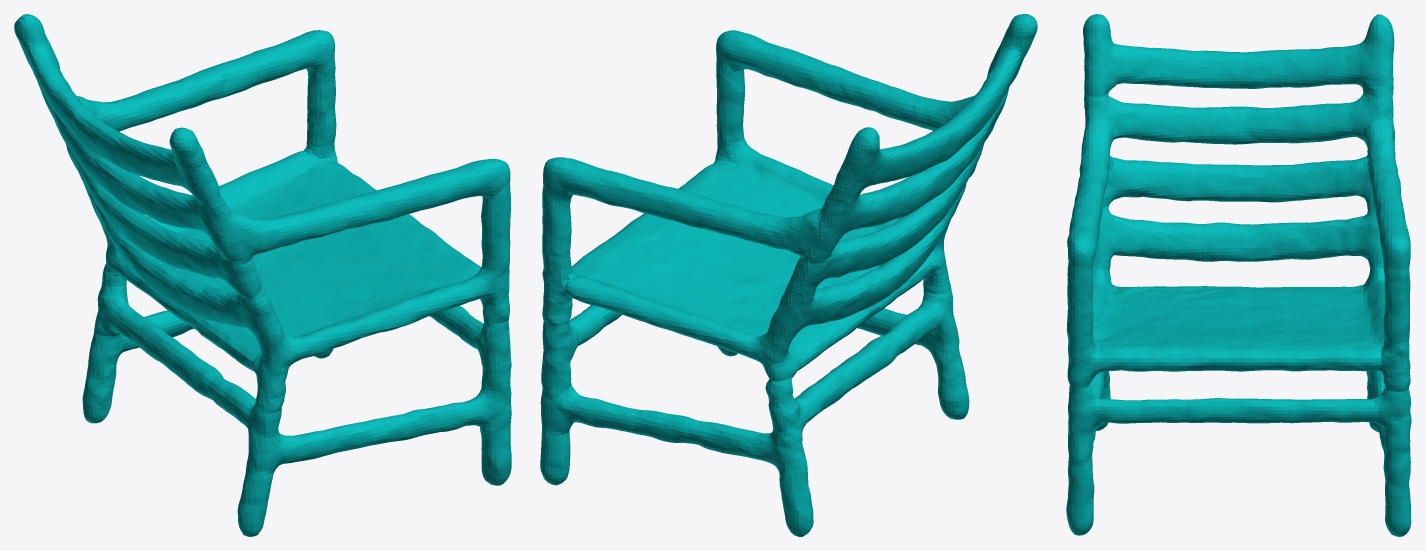
3 views of the same model, side by side, from view 1: azimuth 30°, elevation 25°; view 2: azimuth 150°, elevation 25°; view 3: azimuth 270°, elevation 25° (orthographic). The views are drawn at different scales.
Bounding box in the file's own units: 0.8585 × 1.04 × 0.8398.
